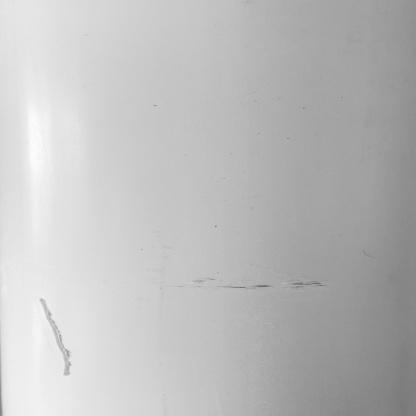sunshang: (35, 294, 79, 380)
